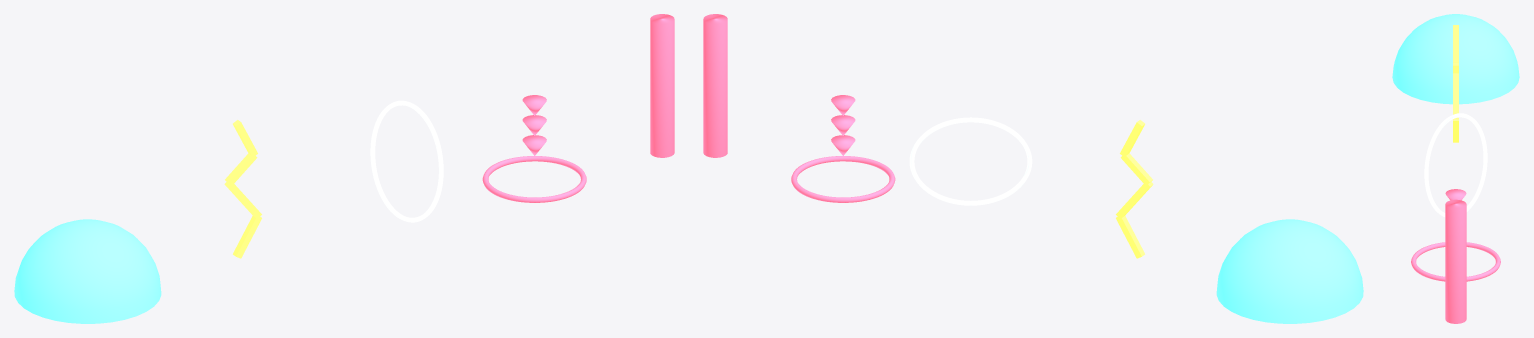
File: effects.glb
3 views of the same model, side by side, from view 1: azimuth 30°, elevation 25°; view 2: azimuth 150°, elevation 25°; view 3: azimuth 270°, elevation 25° (orthographic). The views are drawn at different scales.
Parts seen in each view (by area): view 1: fx_shield_dome, fx_null_beam, fx_wind_ribbon, fx_warning_ring; view 2: fx_shield_dome, fx_null_beam, fx_wind_ribbon, fx_warning_ring; view 3: fx_shield_dome, fx_null_beam, fx_wind_ribbon, fx_warning_ring, fx_lightning_2, fx_lightning_0, fx_warning_chevron_2, fx_lightning_3.
Part boxes in pixels (box(x1,y1,x2,y2)): fx_shield_dome: box(14, 219, 161, 323); fx_null_beam: box(650, 14, 674, 157); fx_wind_ribbon: box(370, 100, 443, 222); fx_warning_ring: box(482, 156, 586, 202); fx_shield_dome: box(1216, 219, 1363, 323); fx_null_beam: box(703, 14, 727, 157); fx_wind_ribbon: box(909, 117, 1032, 205); fx_warning_ring: box(791, 156, 895, 202); fx_shield_dome: box(1392, 14, 1519, 104); fx_null_beam: box(1445, 199, 1466, 323); fx_wind_ribbon: box(1424, 113, 1487, 216); fx_warning_ring: box(1411, 242, 1500, 281); fx_lightning_2: box(1453, 73, 1458, 118); fx_lightning_0: box(1453, 25, 1458, 62); fx_warning_chevron_2: box(1445, 189, 1466, 200); fx_lightning_3: box(1453, 118, 1458, 142).
Size of the model in its own units: 15.25 by 3.07 by 3.
